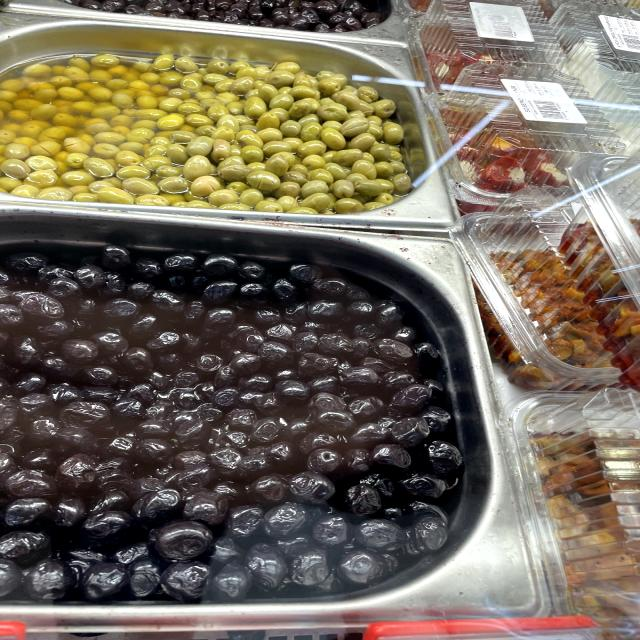olive: (42, 314, 410, 524), (146, 521, 218, 564), (22, 554, 78, 608), (120, 481, 185, 526), (283, 462, 341, 511), (80, 558, 136, 605)
